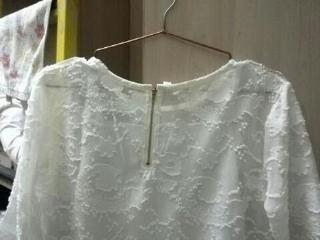long sleeve top: (1, 56, 319, 239)
